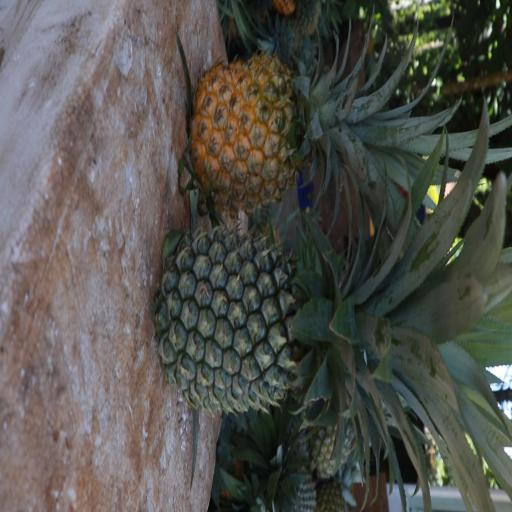Pineapple - v8 v1: (194, 62, 453, 202)
